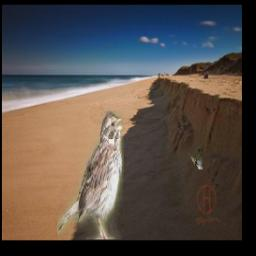Cuckoo: (188, 147, 203, 169)
Sparrow: (58, 111, 125, 239)
